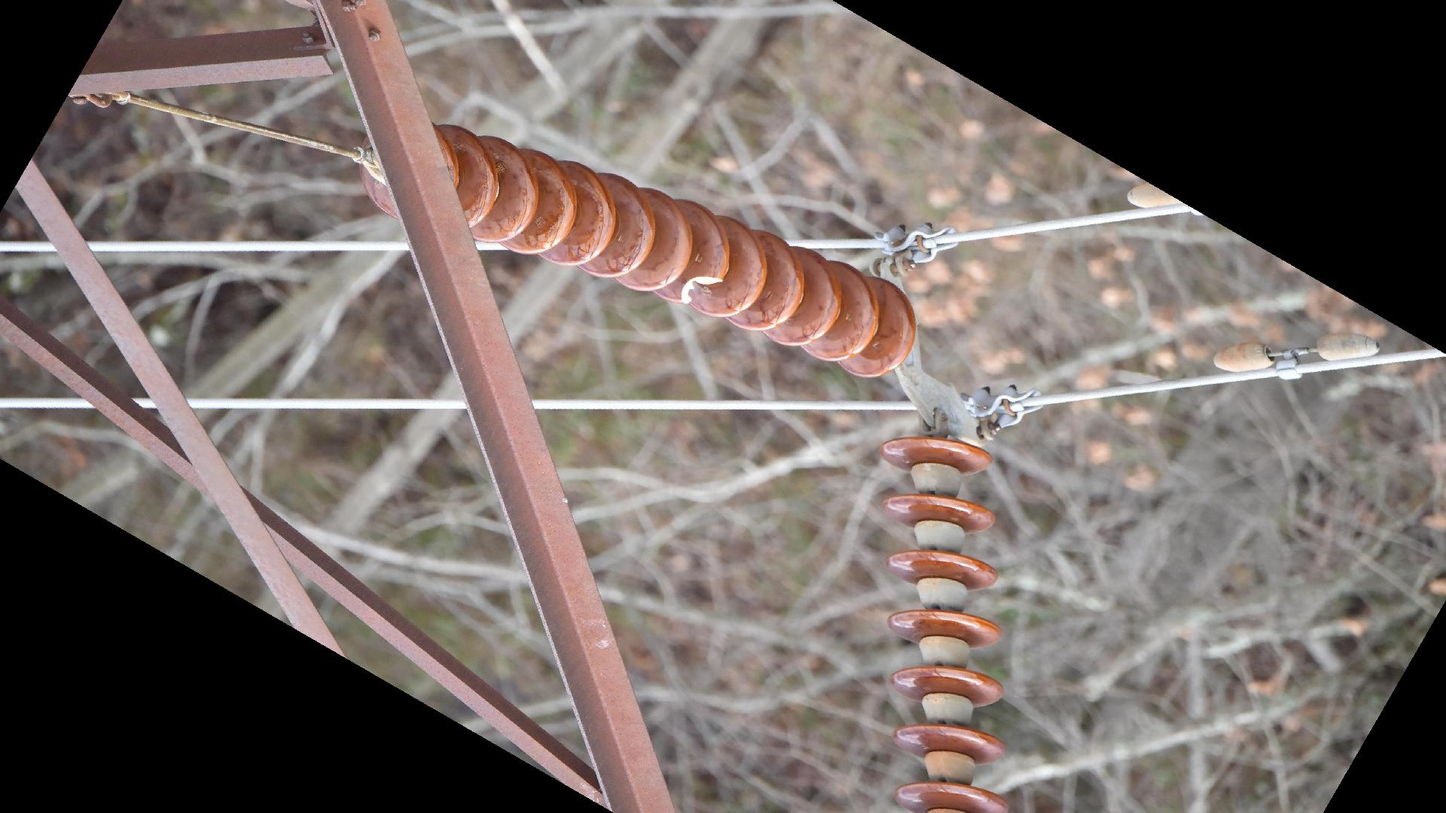insulator: (412, 115, 922, 385), (871, 428, 1016, 813)
insulator_breakage: (670, 269, 728, 309)
